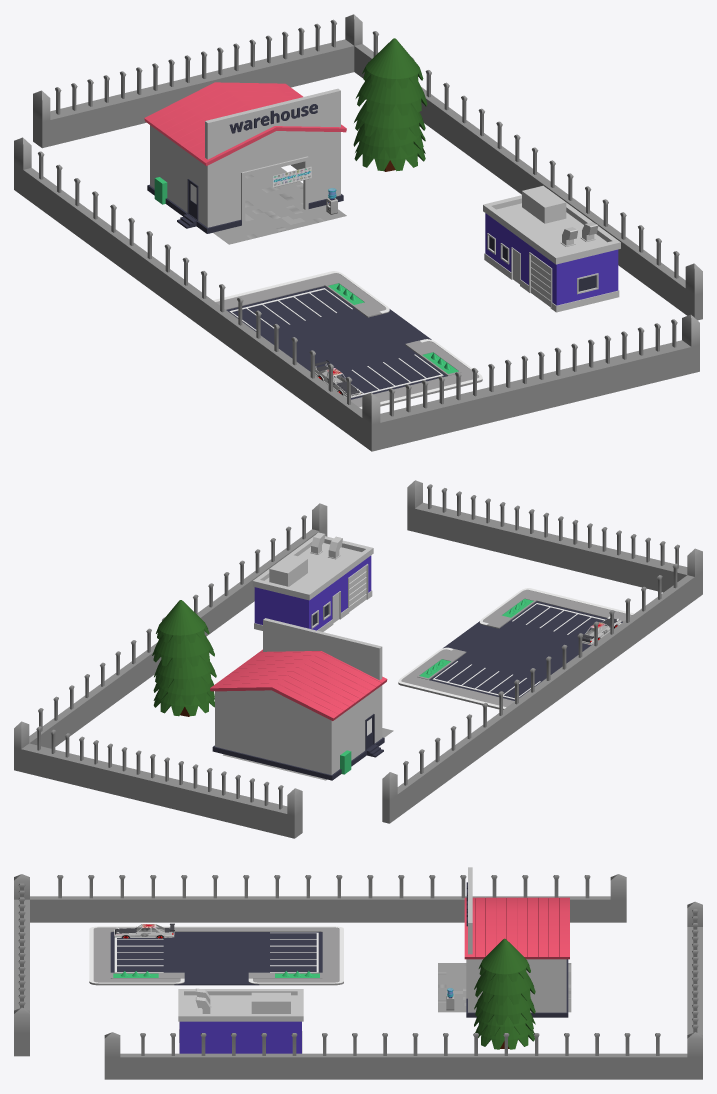
The model's file is shop_2.glb.
The picture shows the model from 3 angles, top to bottom: view 1: azimuth 30°, elevation 25°; view 2: azimuth 150°, elevation 25°; view 3: azimuth 270°, elevation 25°; orthographic projection. The views are drawn at different scales.
Parts seen in each view (by area): view 1: Fence (×2), Main building (×2), Road, Roof (×2), treetop, Plane, Sign, Footpath, Lines, Bottom section (×2), Concretes, Window frames (+2 smaller); view 2: Fence (×2), Main building (×2), Roof (×2), Road, treetop, Sign, Footpath, Lines, Bottom section, Concretes, Garage door; view 3: Fence (×2), Roof (×2), Road, Main building (×2), treetop, Footpath, Lines, Plane, Concretes, Car frame, Bottom section, Sign (+1 smaller).
Boxes of the visible parts, x1=… form: Fence (×2): x1=14, y1=14, x2=702, y2=451; Main building (×2): x1=150, y1=125, x2=618, y2=305; Road: x1=226, y1=286, x2=447, y2=399; Roof (×2): x1=144, y1=82, x2=620, y2=264; treetop: x1=353, y1=38, x2=427, y2=171; Plane: x1=213, y1=167, x2=346, y2=244; Sign: x1=205, y1=88, x2=340, y2=159; Footpath: x1=216, y1=273, x2=482, y2=407; Lines: x1=213, y1=271, x2=482, y2=408; Bottom section (×2): x1=147, y1=184, x2=619, y2=312; Concretes: x1=324, y1=282, x2=461, y2=375; Window frames: x1=487, y1=233, x2=598, y2=308; Fence (×2): x1=14, y1=480, x2=702, y2=838; Main building (×2): x1=215, y1=555, x2=382, y2=774; Roof (×2): x1=210, y1=535, x2=387, y2=720; Road: x1=429, y1=601, x2=622, y2=700; treetop: x1=152, y1=600, x2=216, y2=716; Sign: x1=263, y1=618, x2=382, y2=680; Footpath: x1=398, y1=590, x2=631, y2=709; Lines: x1=398, y1=588, x2=634, y2=708; Bottom section: x1=212, y1=737, x2=384, y2=780; Concretes: x1=417, y1=597, x2=536, y2=679; Garage door: x1=349, y1=566, x2=366, y2=611; Fence (×2): x1=14, y1=874, x2=702, y2=1079; Roof (×2): x1=178, y1=897, x2=569, y2=1021; Road: x1=110, y1=932, x2=322, y2=985; Main building (×2): x1=179, y1=959, x2=566, y2=1053; treetop: x1=474, y1=938, x2=535, y2=1049; Footpath: x1=89, y1=927, x2=343, y2=985; Lines: x1=89, y1=926, x2=343, y2=983; Plane: x1=438, y1=963, x2=571, y2=1012; Concretes: x1=110, y1=972, x2=322, y2=978; Car frame: x1=114, y1=924, x2=174, y2=937; Bottom section: x1=466, y1=959, x2=568, y2=1017; Sign: x1=468, y1=867, x2=472, y2=954.
Size of the model in its own units: 6.34 by 2.01 by 11.49.
51 materials, 3 textured.
